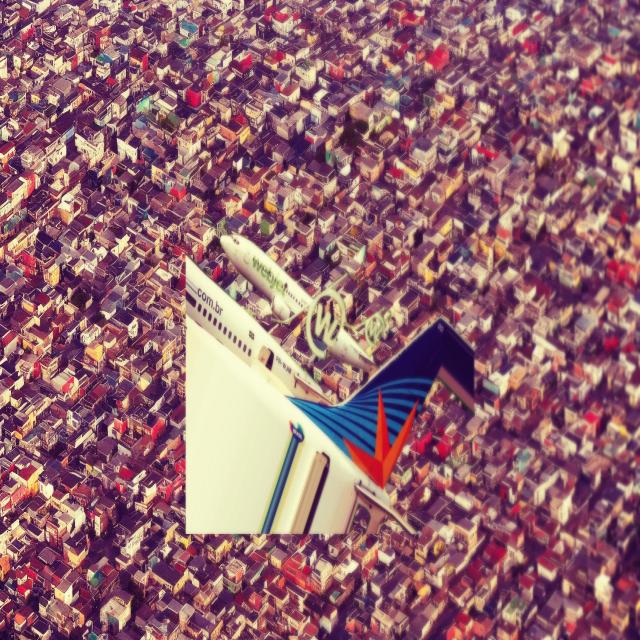airplane: (184, 251, 475, 541), (219, 230, 379, 376)
